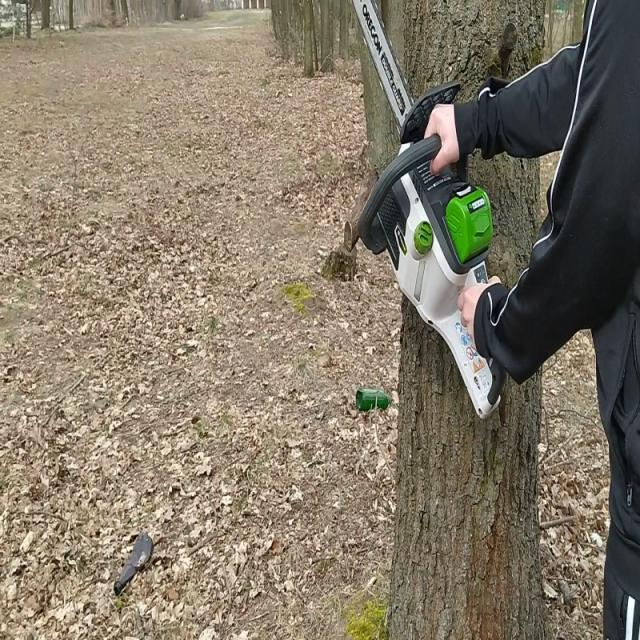Chainsaw: (340, 0, 510, 425)
